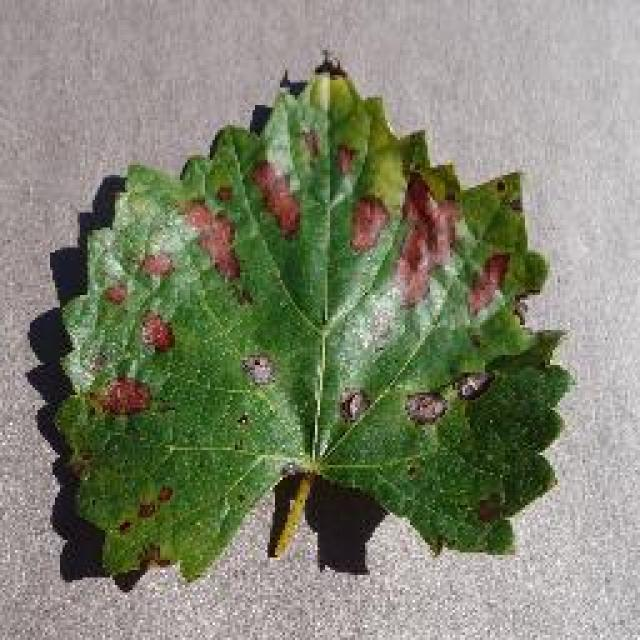Black_Measles: (39, 54, 587, 598)
